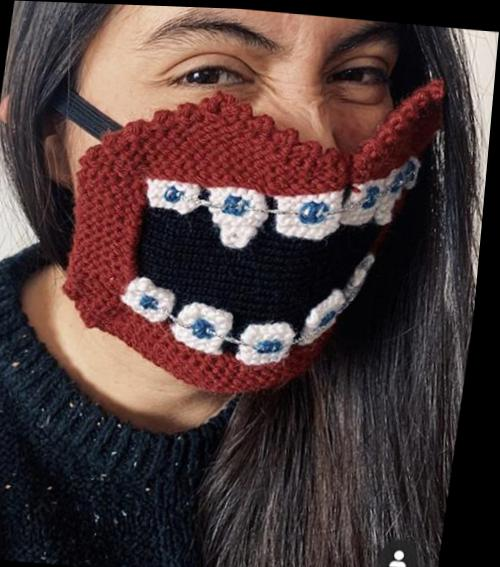WRONG: (69, 4, 421, 405)
